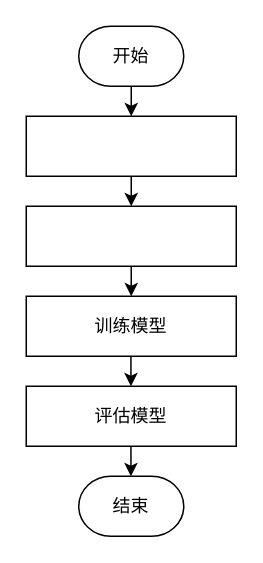
Image size: 263x563. Some labels were removed from this diagram. The shapes that lost their labels are listed below. From the top down, each one's box as (x1, y1, x2, y2) in pixels, then its label:
(25, 115, 236, 176): 更新数据集
(25, 205, 236, 266): 划分训练集和验证集
